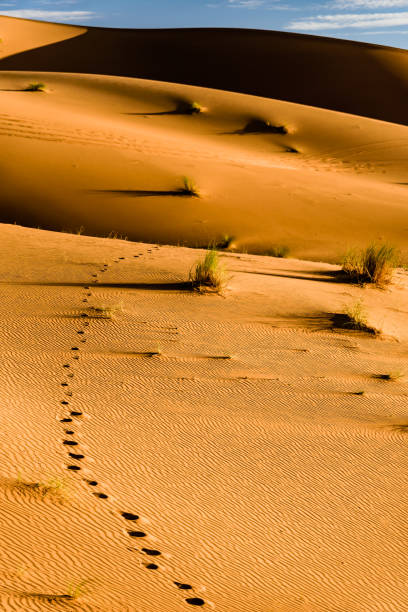animal_footprint: (59, 399, 114, 503), (141, 547, 161, 556), (185, 597, 204, 605), (174, 581, 192, 589), (121, 512, 138, 520), (127, 530, 146, 537), (69, 452, 84, 459), (94, 492, 108, 498), (145, 563, 158, 569), (63, 440, 78, 445), (70, 410, 82, 416), (85, 480, 97, 486), (67, 465, 80, 470), (64, 429, 74, 434), (60, 418, 72, 422), (77, 330, 85, 335), (61, 381, 68, 386), (60, 400, 68, 404)
